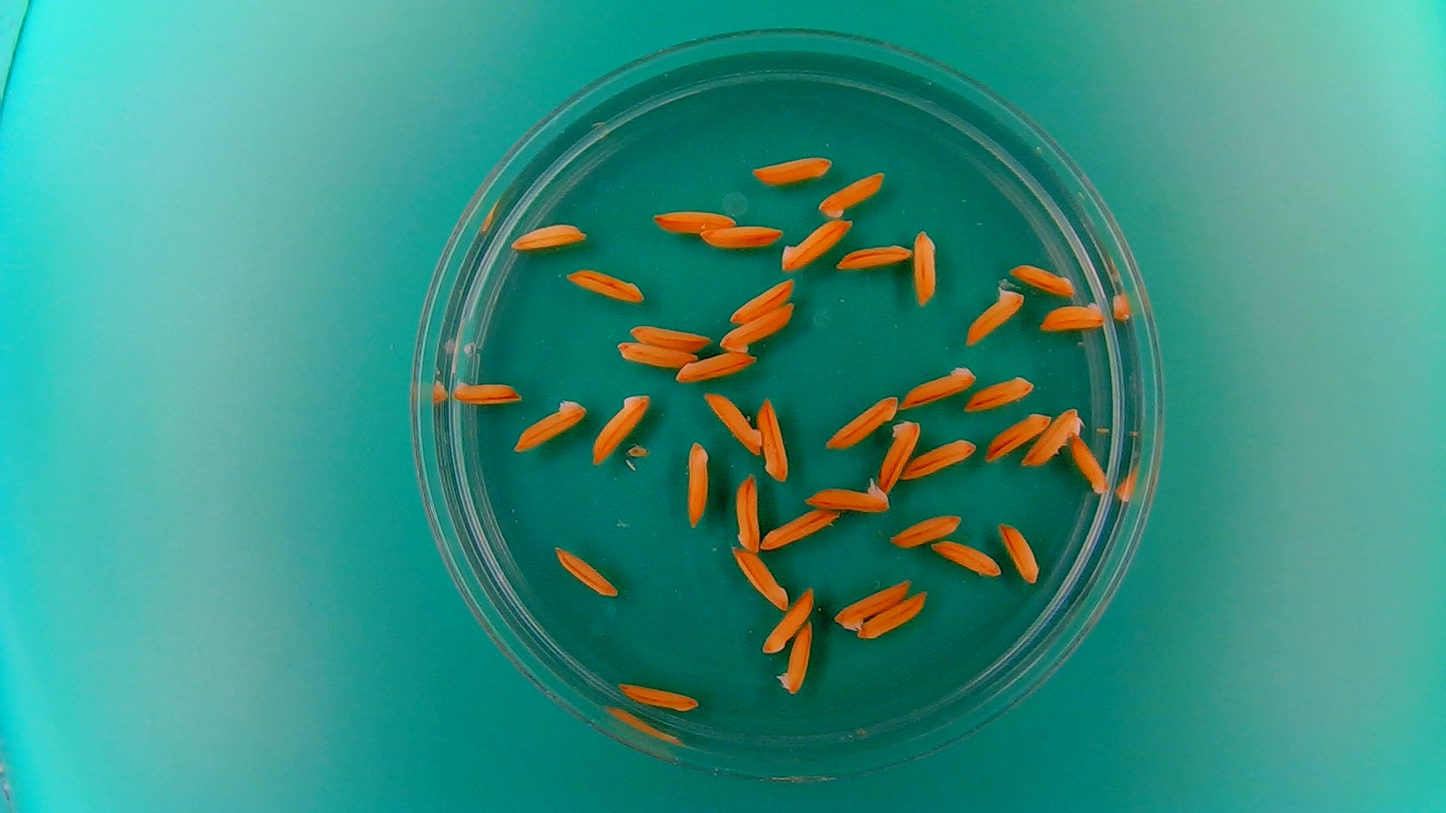no: (587, 388, 651, 466), (832, 575, 914, 633), (509, 395, 589, 452), (822, 391, 898, 450), (776, 217, 856, 273), (717, 301, 797, 355), (1020, 403, 1085, 468), (700, 388, 763, 455), (728, 544, 789, 612), (759, 583, 816, 655), (898, 360, 979, 410), (857, 589, 932, 641), (551, 544, 620, 599), (758, 507, 840, 553), (983, 408, 1054, 461), (899, 436, 978, 482), (815, 169, 886, 220), (877, 416, 923, 494), (725, 276, 798, 324), (563, 266, 647, 304), (996, 519, 1043, 586), (757, 394, 791, 486), (1069, 423, 1109, 501), (615, 678, 701, 714), (929, 537, 1004, 578), (748, 151, 834, 186), (889, 510, 963, 550), (964, 373, 1036, 413), (676, 350, 758, 385), (509, 218, 590, 253), (651, 204, 739, 236), (682, 437, 712, 528), (627, 321, 712, 353), (698, 221, 785, 251), (1007, 260, 1077, 297), (834, 241, 914, 272), (449, 373, 524, 406), (614, 339, 698, 368), (732, 470, 761, 554), (1039, 298, 1108, 333), (911, 226, 940, 308)
yes: (962, 280, 1027, 347), (801, 475, 892, 513), (776, 619, 814, 696)
